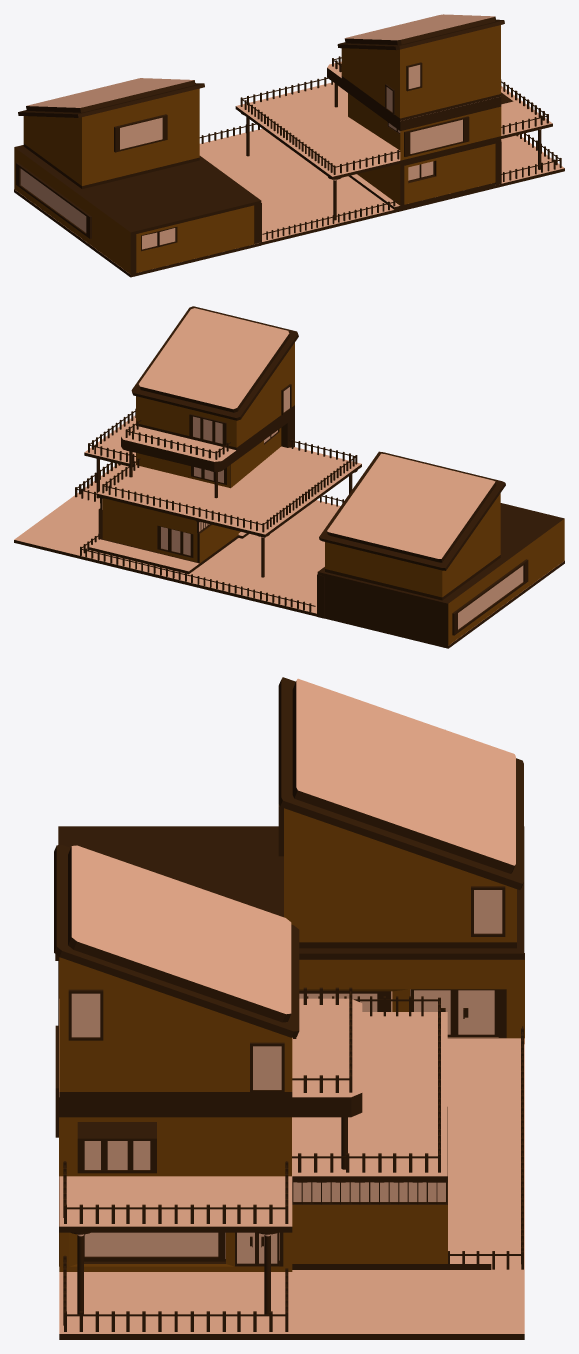
Rendered from Main_House.fbx.
3 renders of one model, top to bottom at view 1: azimuth 30°, elevation 25°; view 2: azimuth 150°, elevation 25°; view 3: azimuth 270°, elevation 25°, orthographic. The views are drawn at different scales.
Visible parts, largest first — view 1: polySurface124; view 2: polySurface124; view 3: polySurface124.
Part boxes in pixels (x1,y1,x2,y2): polySurface124: [14, 14, 564, 277]; polySurface124: [14, 306, 564, 648]; polySurface124: [54, 677, 524, 1339].
Bounding box in the file's own units: 2903 × 1071 × 1357.
